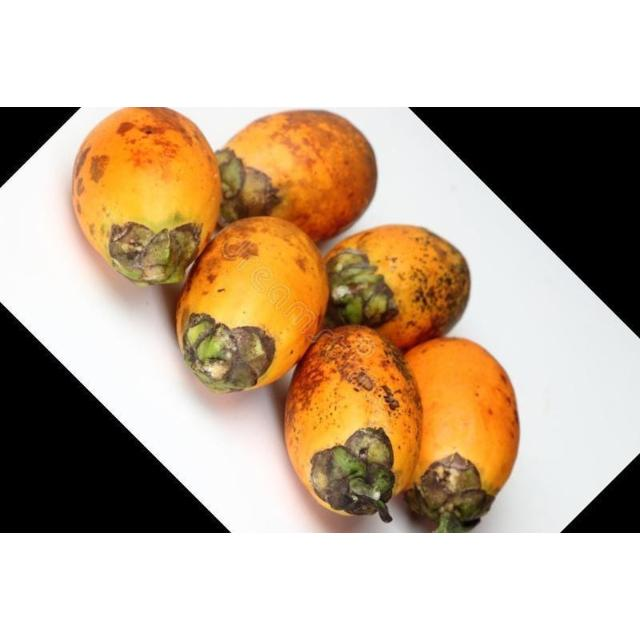good: (173, 217, 329, 393), (71, 107, 222, 288), (282, 326, 422, 517), (396, 338, 521, 525), (215, 111, 379, 245), (321, 225, 472, 356)
